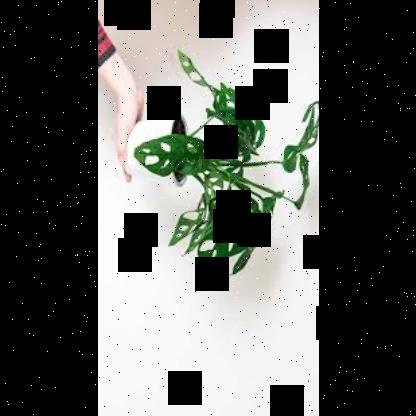agujero: (200, 238, 220, 254), (175, 160, 195, 172), (145, 154, 159, 168), (159, 140, 173, 154), (213, 222, 235, 230), (186, 141, 196, 157), (227, 236, 235, 256), (187, 71, 203, 81), (184, 211, 198, 221), (162, 158, 171, 172), (227, 211, 241, 219), (178, 224, 190, 233), (189, 223, 199, 233), (194, 232, 204, 242), (243, 207, 255, 215), (180, 60, 192, 68), (224, 102, 234, 110), (240, 226, 246, 238), (237, 105, 245, 113), (141, 148, 151, 154), (216, 228, 226, 234), (207, 177, 217, 183), (215, 94, 221, 103), (176, 231, 184, 237), (211, 186, 221, 190), (214, 250, 219, 258), (224, 96, 230, 102), (206, 188, 210, 197)
